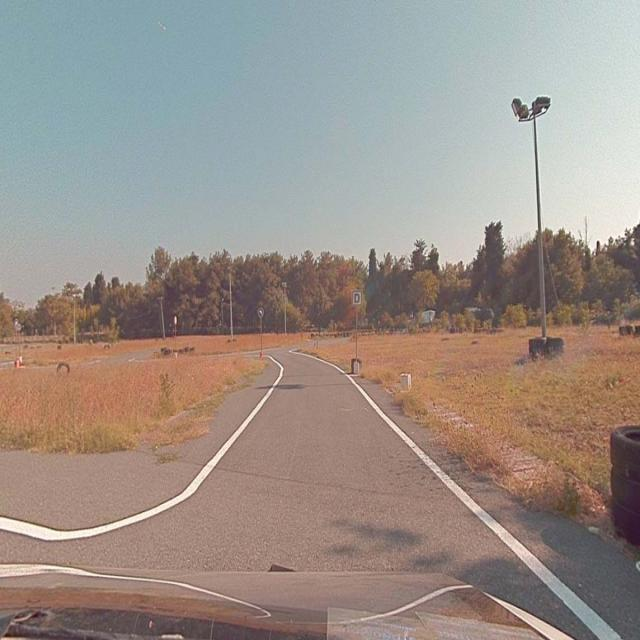durak: (352, 290, 362, 306)
sol: (258, 308, 263, 318)
